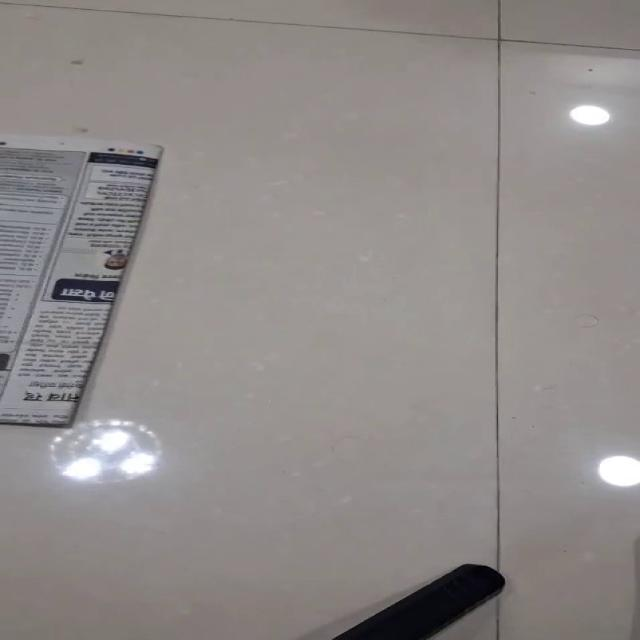paper: (0, 133, 163, 427)
